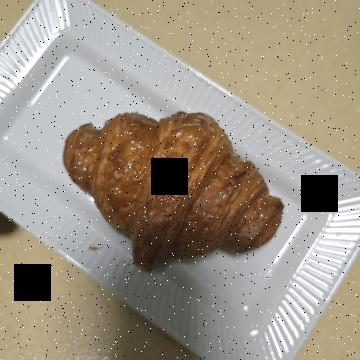croissant: (93, 52, 280, 298)
